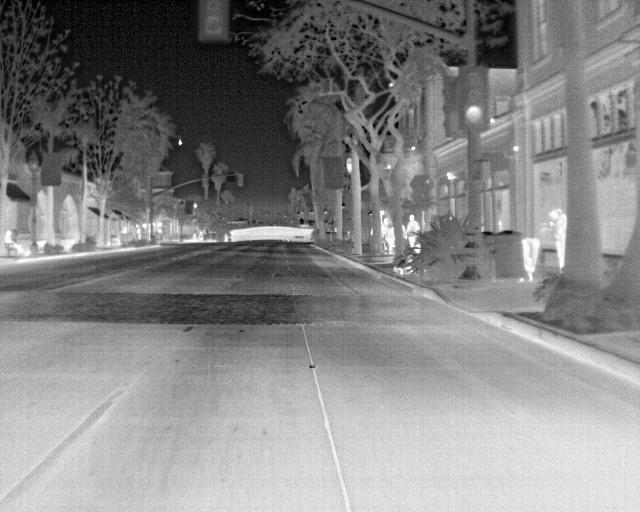empty: (552, 207, 568, 272), (401, 211, 423, 250)
